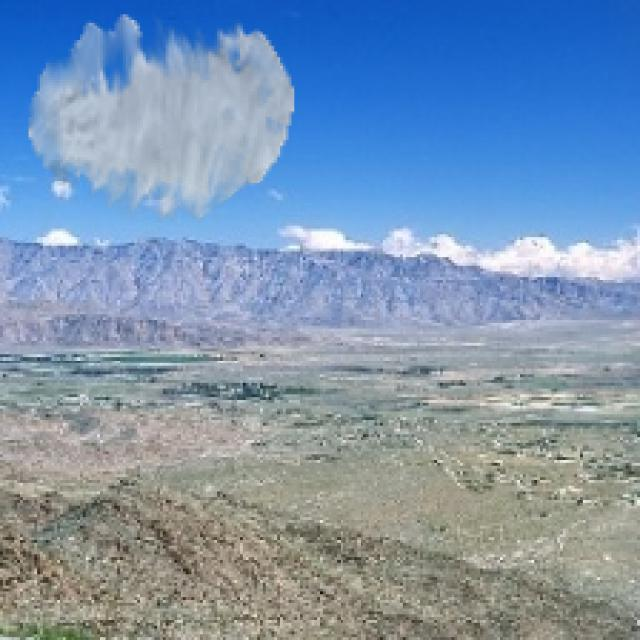Smoke: (28, 14, 294, 223)
